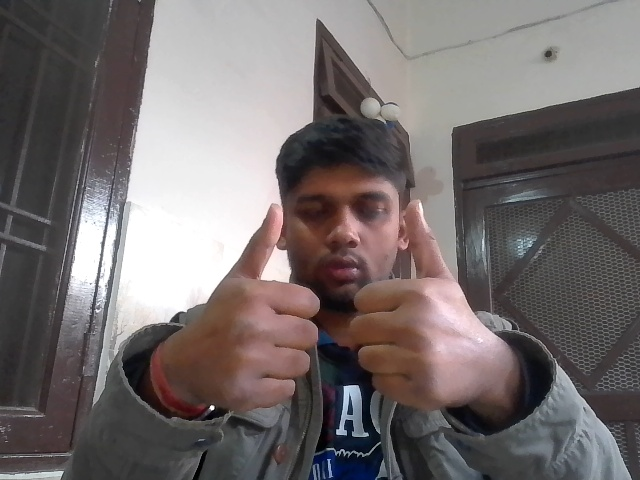Excellent: (187, 193, 486, 425)
